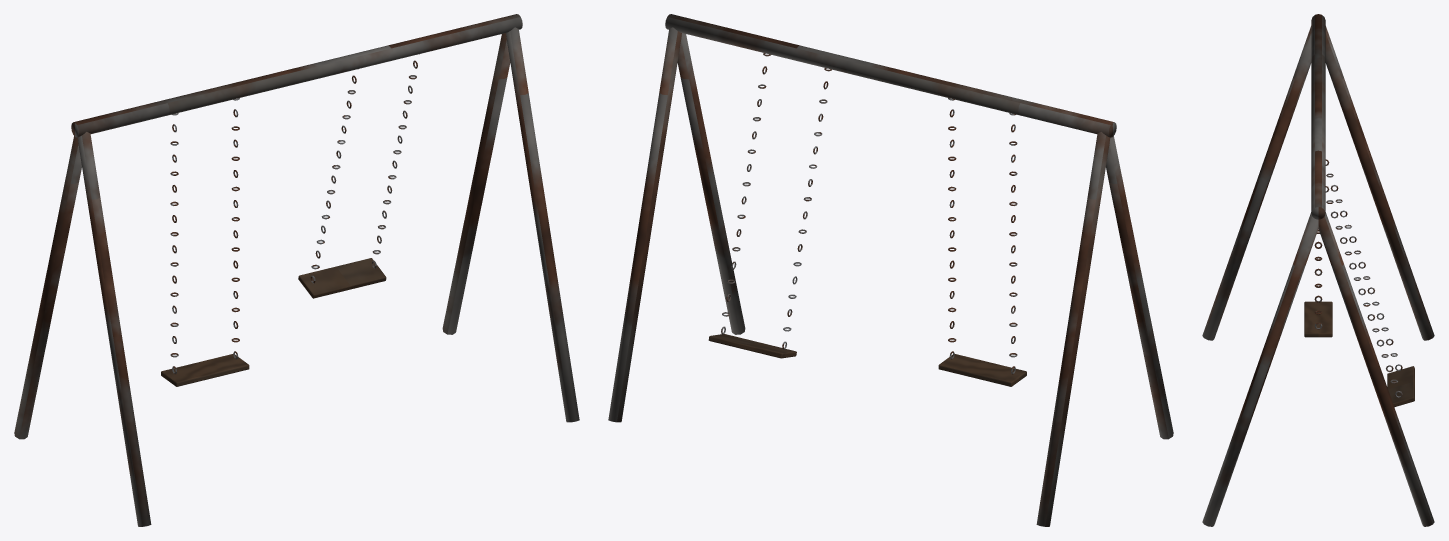
The model's file is S07_swing_set.glb.
3 renders of one model, left to right at view 1: azimuth 30°, elevation 25°; view 2: azimuth 150°, elevation 25°; view 3: azimuth 270°, elevation 25°, orthographic. The views are drawn at different scales.
Parts seen in each view (by area): view 1: S07_swing_set; view 2: S07_swing_set; view 3: S07_swing_set.
Boxes of the visible parts, bbox=[...] form: S07_swing_set: bbox=[14, 14, 579, 526]; S07_swing_set: bbox=[608, 14, 1173, 526]; S07_swing_set: bbox=[1202, 14, 1434, 526].
Bounding box in the file's own units: 3 × 2.33 × 1.53.
3 materials, 3 textured.
